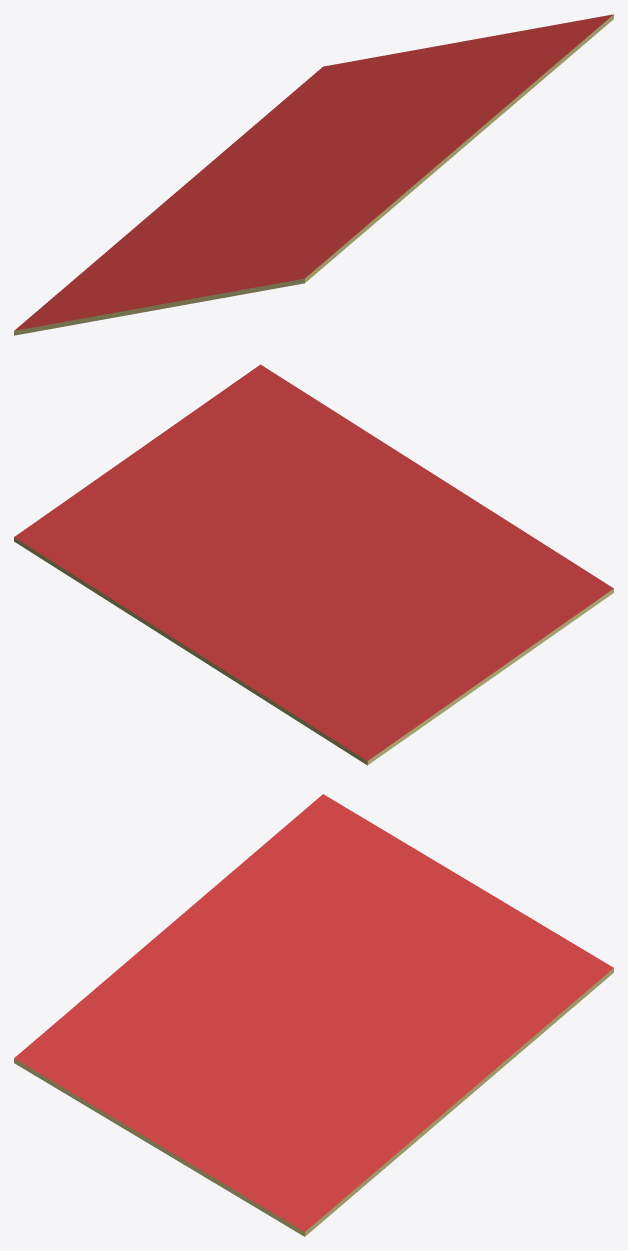
3 renders of one model, top to bottom at view 1: azimuth 90°, elevation 25°; view 2: azimuth 150°, elevation 25°; view 3: azimuth 270°, elevation 25°, orthographic. The views are drawn at different scales.
Bounding box in the file's own units: 14.61 × 11.4 × 2.47.
